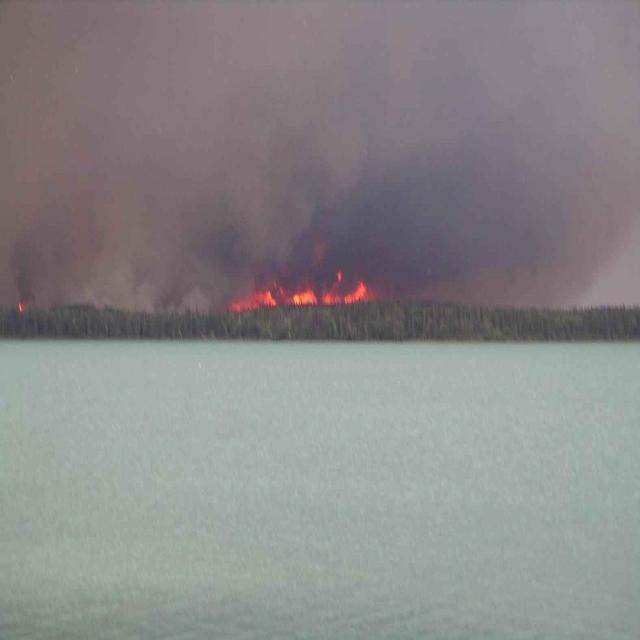Fire: (224, 253, 378, 331), (15, 292, 30, 317)
Smoke: (21, 42, 626, 330)
